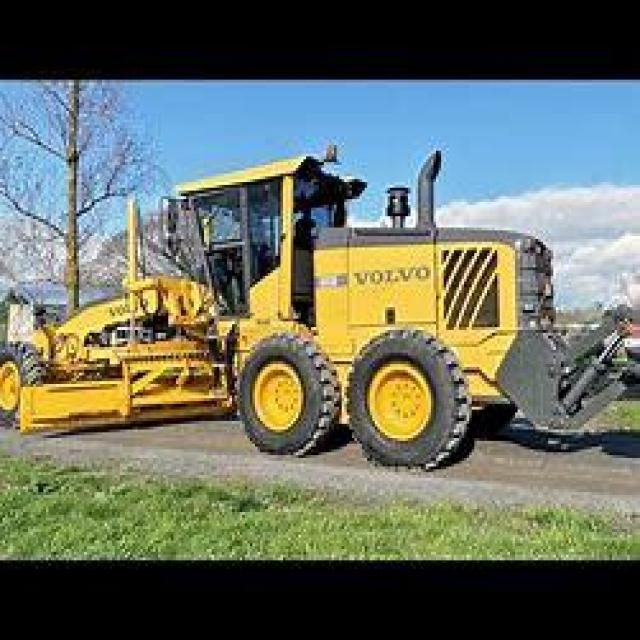Grader: (0, 150, 617, 483)
